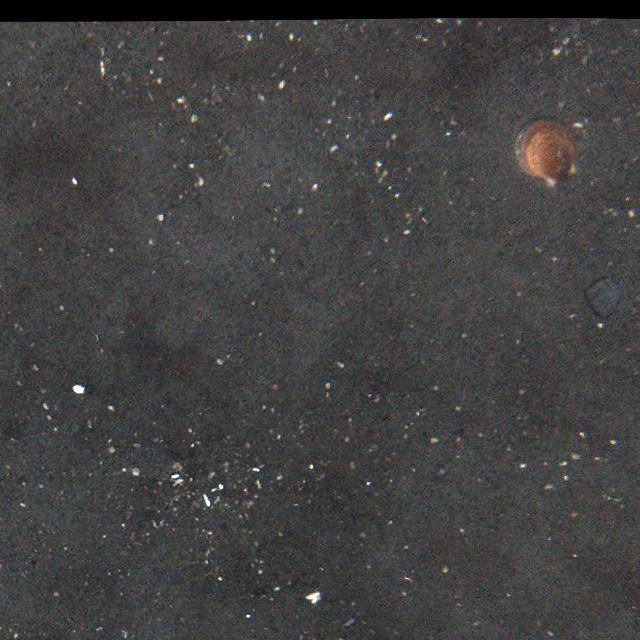scallop: (514, 116, 583, 186)
